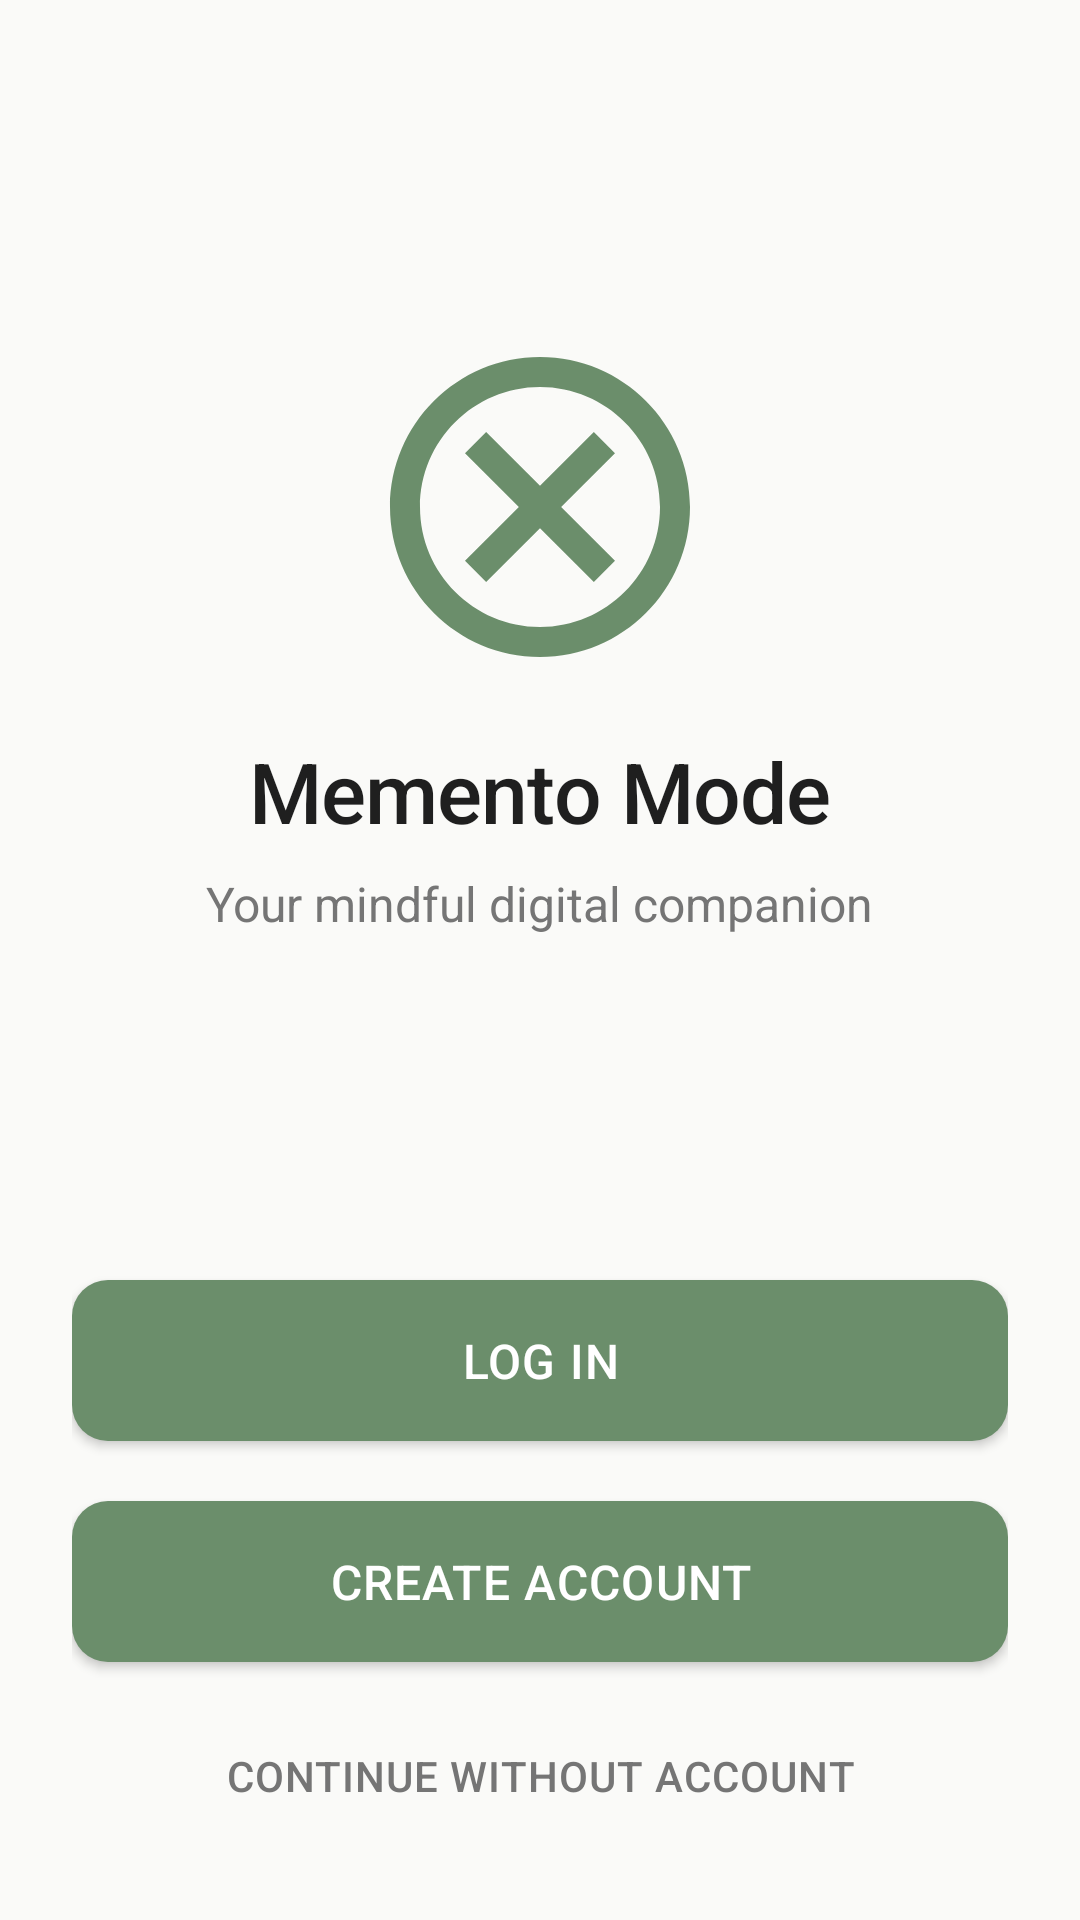

Locate icon controls on the screen. Image size 1080 x 1920, boxes as (x1, y1, x2, y2).
blocker: (390, 357, 690, 657)
